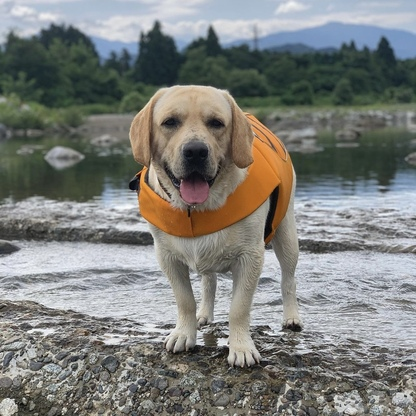labrado: (126, 80, 307, 369)
